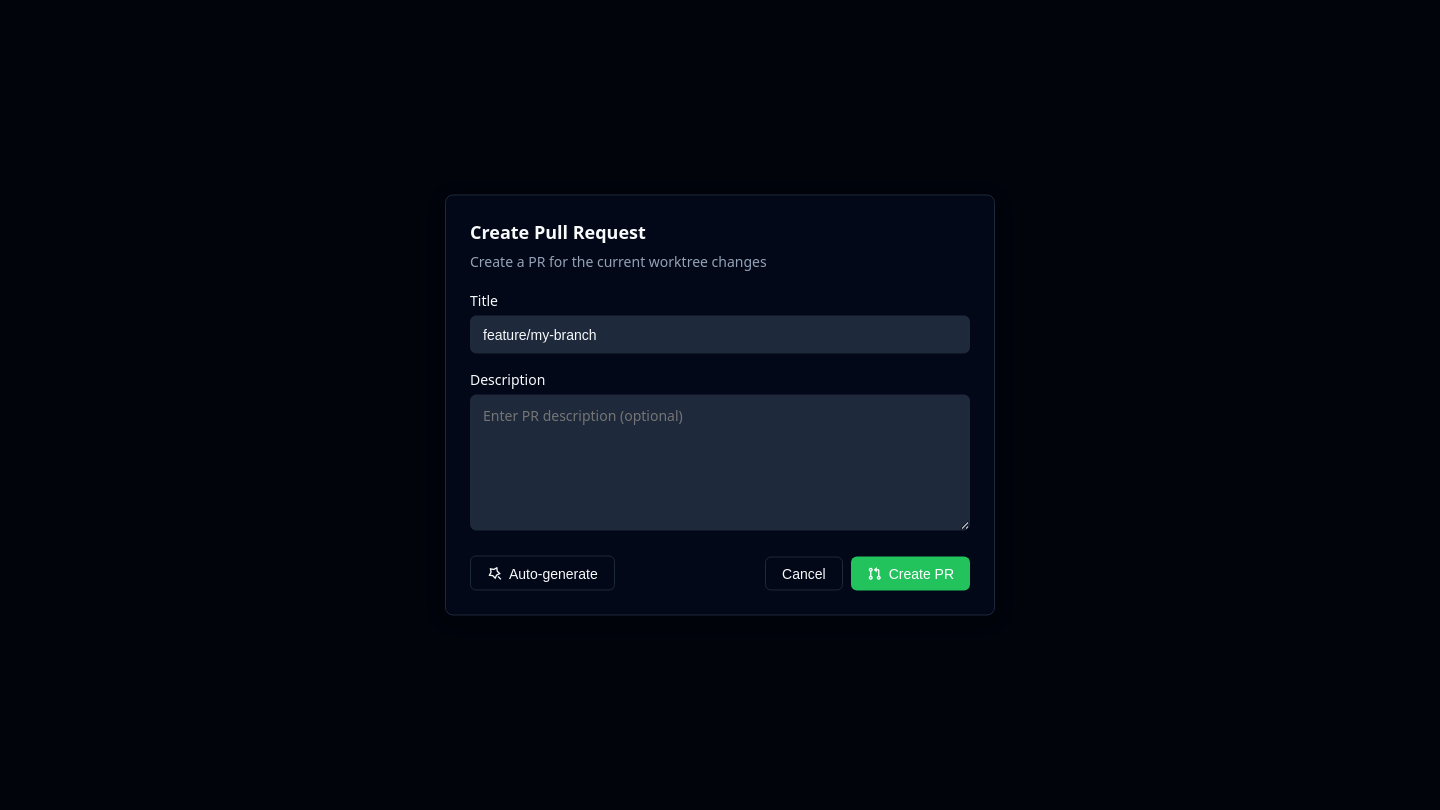
Test case: CreatePRDialog › shows loading state on Create PR button when submitting
Step 1. Click the button "Create PR" → (910, 573), box [851, 556, 970, 590]
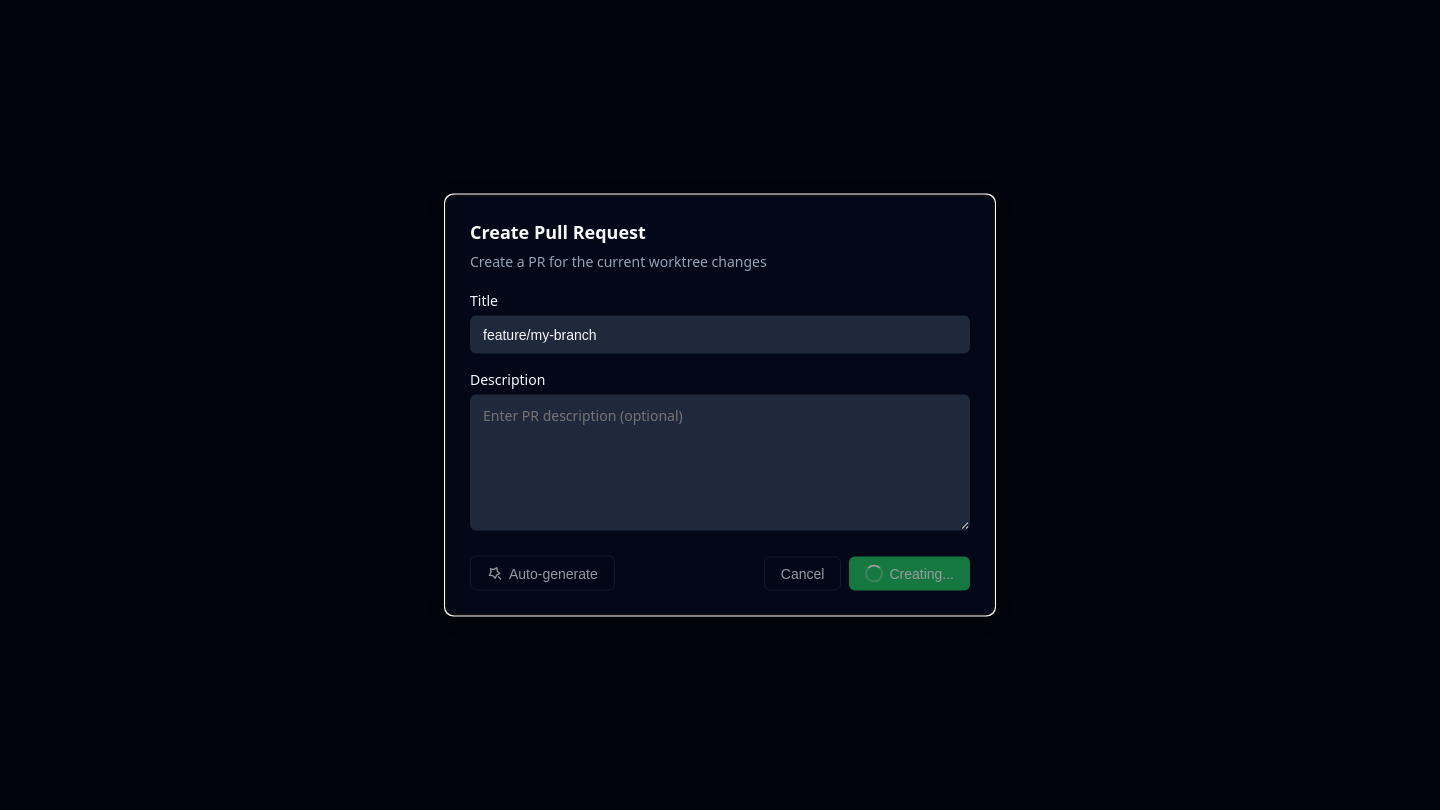
Check: the button "Creating..." is shown, box [849, 556, 970, 590]
